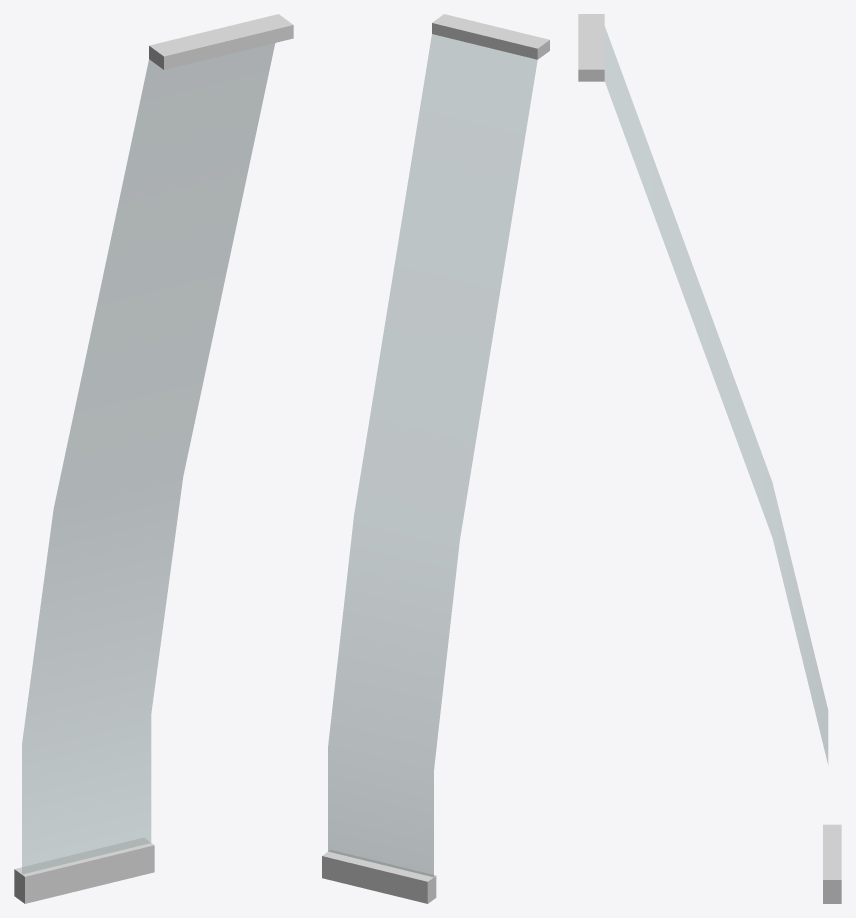
File: winshield02C.fbx
3 renders of one model, left to right at view 1: azimuth 30°, elevation 25°; view 2: azimuth 150°, elevation 25°; view 3: azimuth 270°, elevation 25°, orthographic. The views are drawn at different scales.
Visible parts, largest first — view 1: center glass; view 2: center glass; view 3: center glass.
Part boxes in pixels (x1,y1,x2,y2): center glass: [14, 14, 293, 903]; center glass: [322, 14, 549, 903]; center glass: [578, 14, 841, 903].
Bounding box in the file's own units: 1 × 2 × 7.
